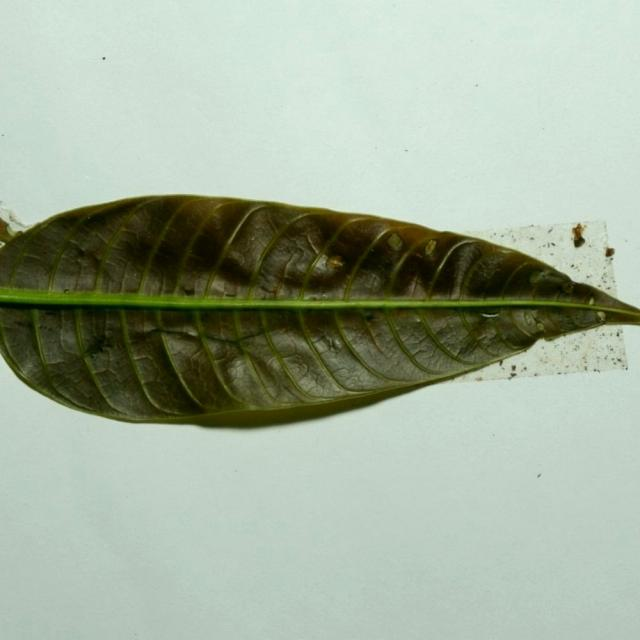Anthracnose: (379, 230, 442, 262), (376, 230, 407, 275), (525, 270, 565, 290)
Mango: (0, 195, 639, 432)
